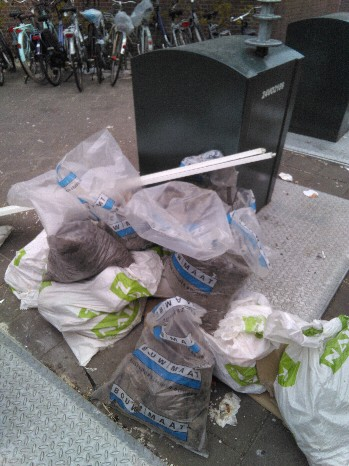Container: (148, 26, 297, 209), (288, 6, 349, 123)
Rest: (153, 210, 278, 304), (121, 315, 217, 424), (64, 159, 161, 250), (29, 241, 110, 304), (233, 320, 301, 391), (314, 330, 349, 436)
Voertuig: (10, 6, 76, 92), (136, 3, 228, 34), (94, 13, 135, 82)
